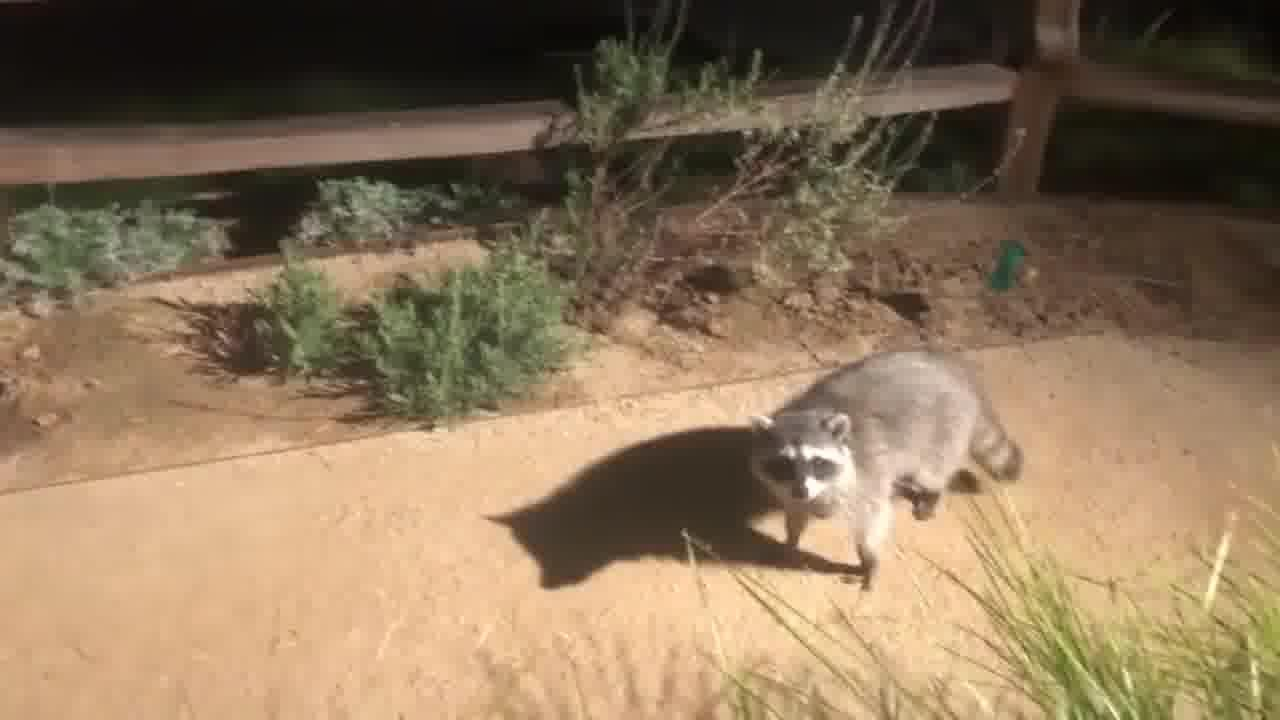raccoon: (740, 337, 1030, 596)
